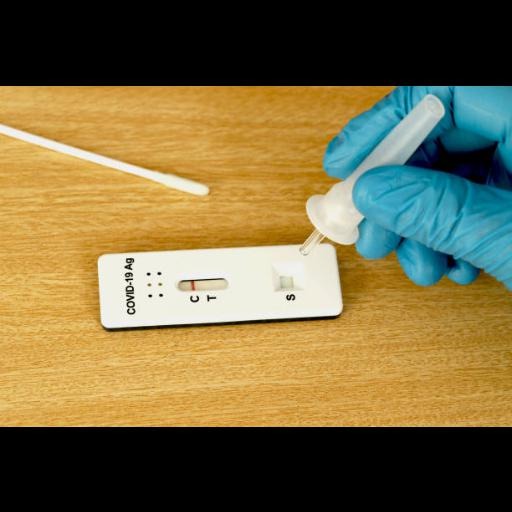Neg: (100, 241, 344, 328)
